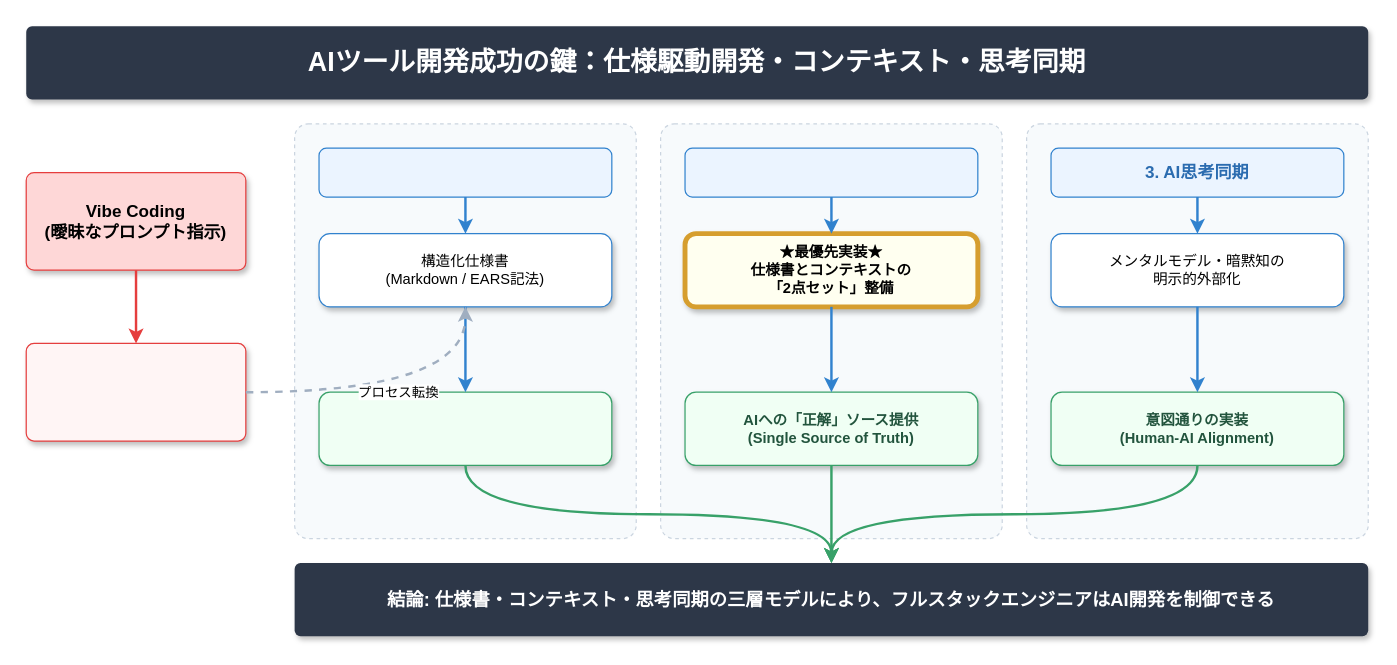
This 1397x665 diagram has some shape labels left out. Each missing label, with the centre of its shape:
"1. 仕様駆動開発 (SDD)" goes at (x=465, y=172).
"2. コンテキストエンジニアリング" goes at (x=831, y=172).
"【課題】 エッジケース欠落 手戻りの多発" goes at (x=136, y=393).
"信頼性・再現性の確保 (エッジケース対応)" goes at (x=466, y=430).
